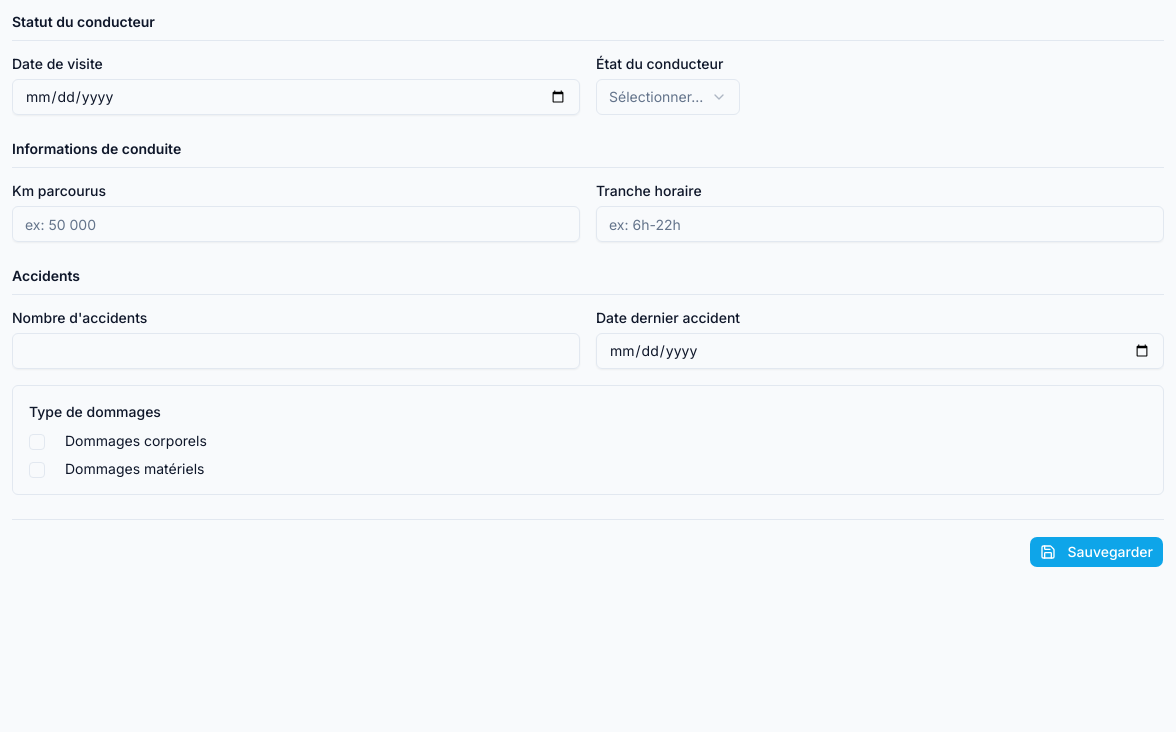
Test: champs conditionnels — affichage › la cause d inactivité n apparaît que pour un conducteur inactif
Click the dropdown at (668, 97), box [596,79,740,115]
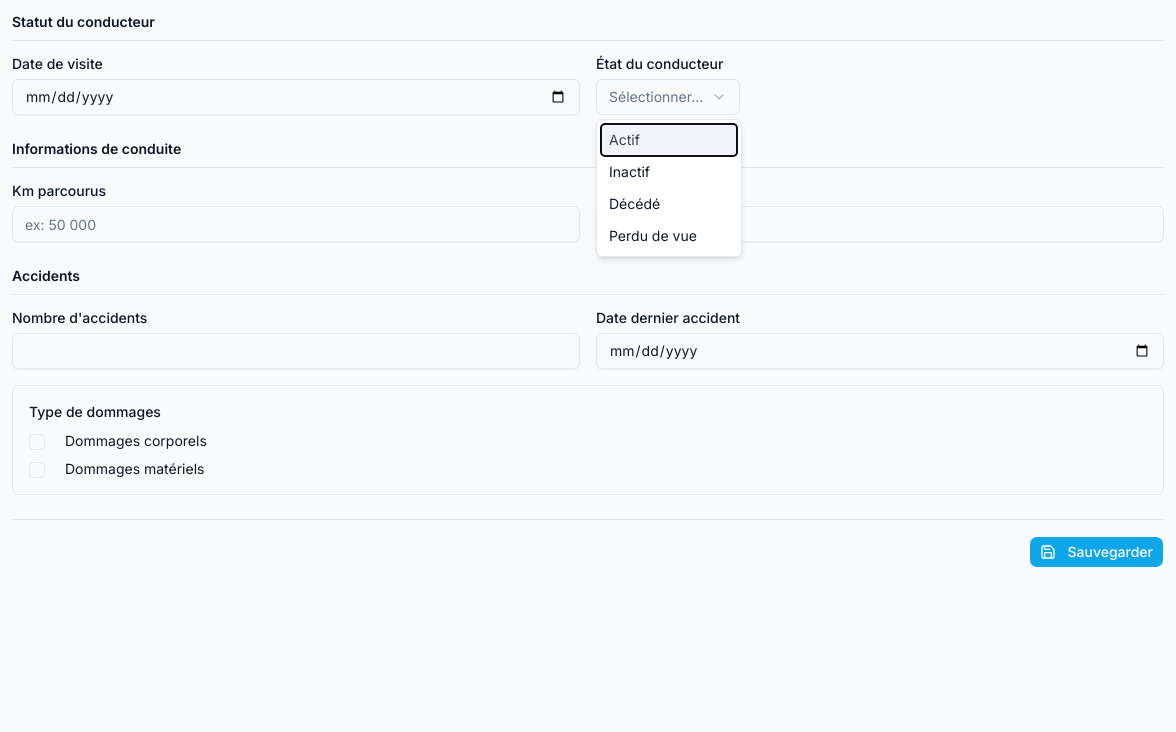
Click the option "Inactif" at (630, 172), box [609,163,650,180]
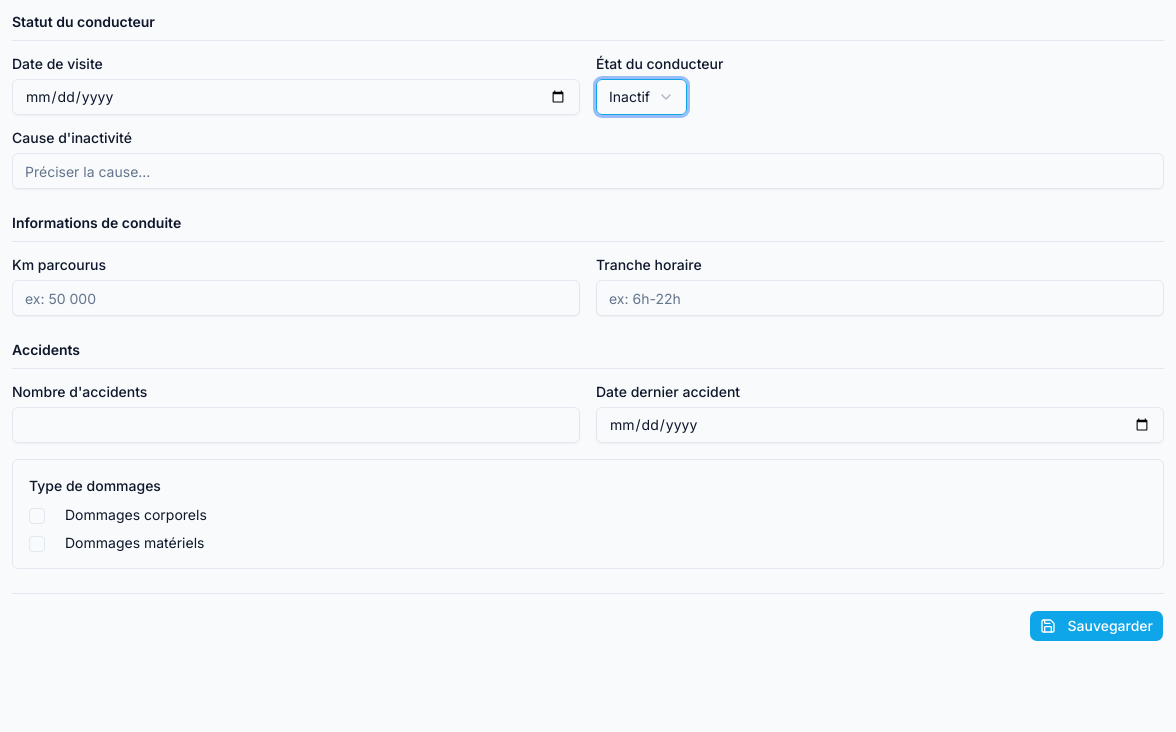
Expected: the field labelled "Cause d'inactivité" is shown, [12,153,1164,189]
